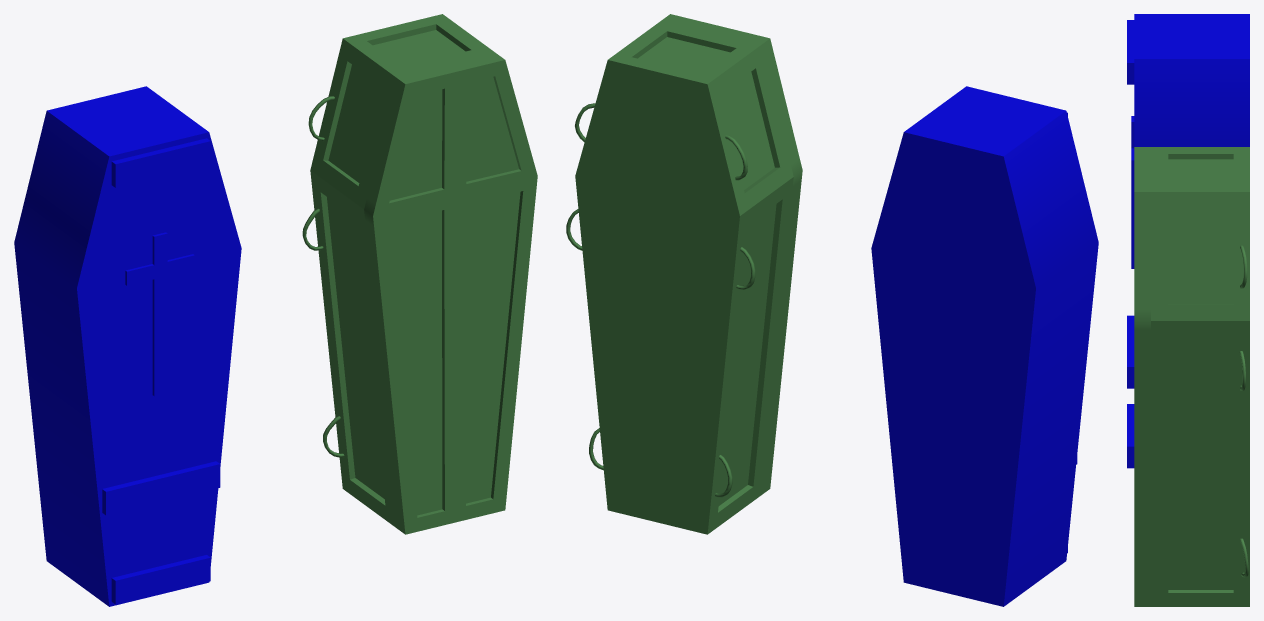
Rendered from coffins.fbx.
3 renders of one model, left to right at view 1: azimuth 30°, elevation 25°; view 2: azimuth 150°, elevation 25°; view 3: azimuth 270°, elevation 25°, orthographic. The views are drawn at different scales.
Visible parts, largest first — view 1: low_rope, low3; view 2: low_rope, low3; view 3: low_rope, low3.
Boxes of the visible parts, x1,y1,x2,y2 form: low_rope: (302,14,537,534); low3: (14,86,241,606); low_rope: (566,14,802,534); low3: (871,86,1098,606); low_rope: (1134,147,1249,606); low3: (1127,14,1249,468).
Bounding box in the file's own units: 223 × 204 × 54.55.
